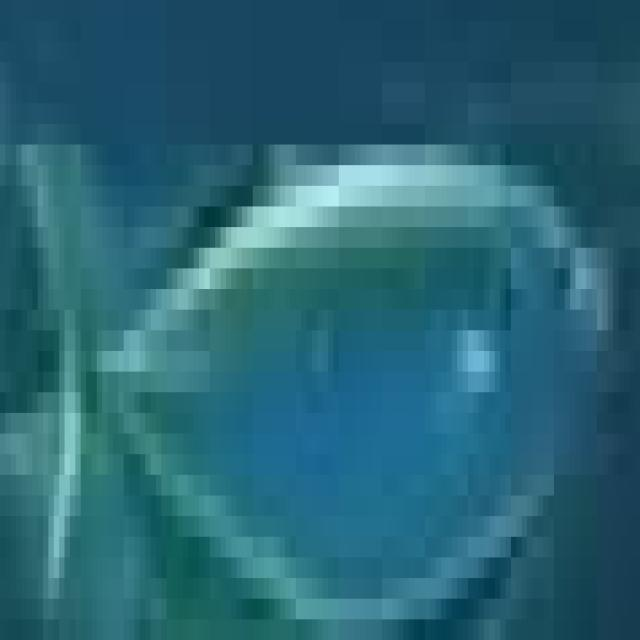fish: (5, 20, 639, 640)
